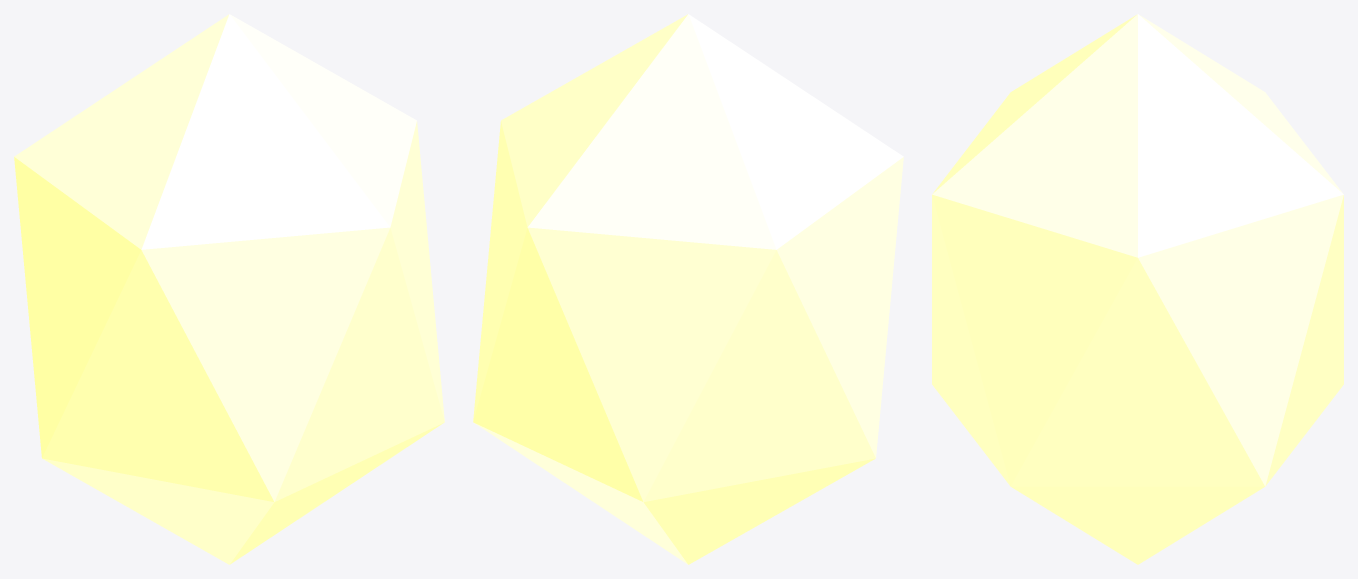
The model's file is reward-content-gem.glb.
3 views of the same model, side by side, from view 1: azimuth 30°, elevation 25°; view 2: azimuth 150°, elevation 25°; view 3: azimuth 270°, elevation 25° (orthographic).
Visible parts, largest first — view 1: reward gem; view 2: reward gem; view 3: reward gem.
Part boxes in pixels (bbox=[...]): reward gem: bbox=[14, 14, 444, 564]; reward gem: bbox=[473, 14, 903, 564]; reward gem: bbox=[932, 14, 1343, 564].
Size of the model in its own units: 0.5297 by 0.7434 by 0.5037.
